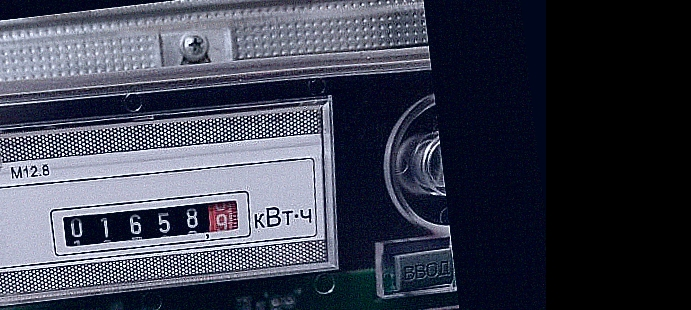0: (68, 216, 84, 239)
1: (99, 216, 111, 239)
5: (155, 210, 172, 234)
6: (126, 212, 143, 235)
8: (183, 205, 199, 229)
9: (212, 211, 228, 234)
screen: (43, 181, 260, 265)
